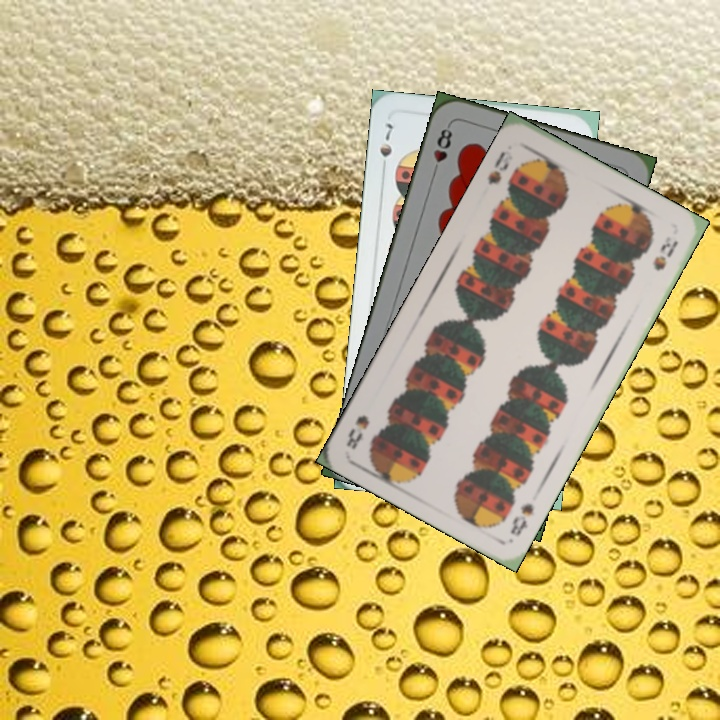H8: (428, 121, 455, 178)
S7: (375, 118, 396, 175)
S8: (483, 146, 516, 187), (506, 499, 537, 539)
